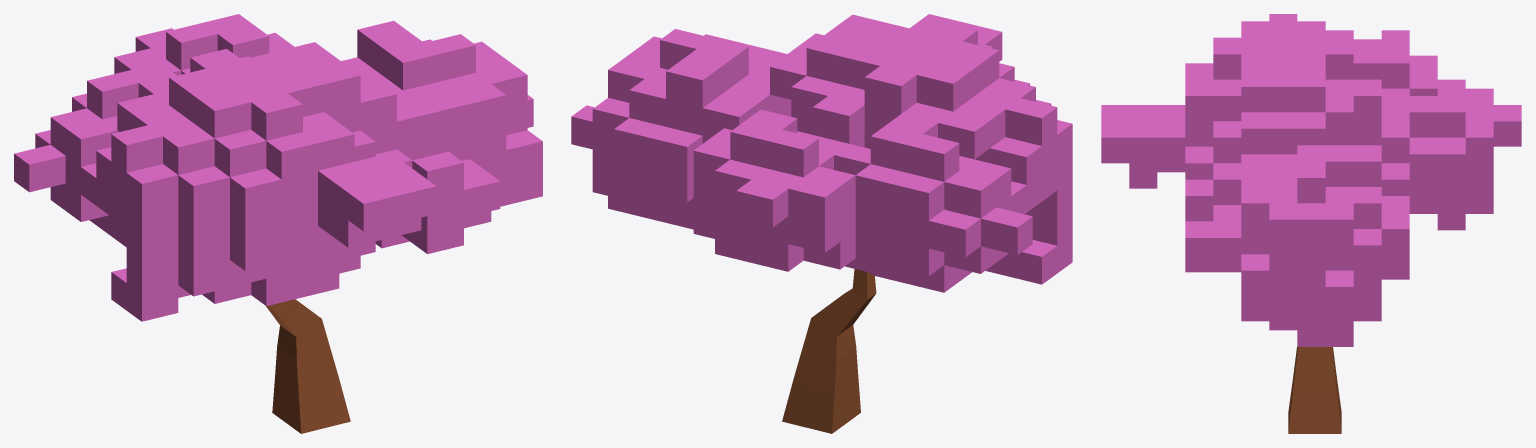
Rendered from sakura 3.fbx.
3 renders of one model, left to right at view 1: azimuth 30°, elevation 25°; view 2: azimuth 150°, elevation 25°; view 3: azimuth 270°, elevation 25°, orthographic. The views are drawn at different scales.
Parts seen in each view (by area): view 1: Sakura.002; view 2: Sakura.002; view 3: Sakura.002.
Part boxes in pixels (x1,y1,x2,y2): Sakura.002: [14, 14, 542, 433]; Sakura.002: [571, 14, 1072, 433]; Sakura.002: [1101, 14, 1521, 433].
Size of the model in its own units: 3486 by 2593 by 2906.
